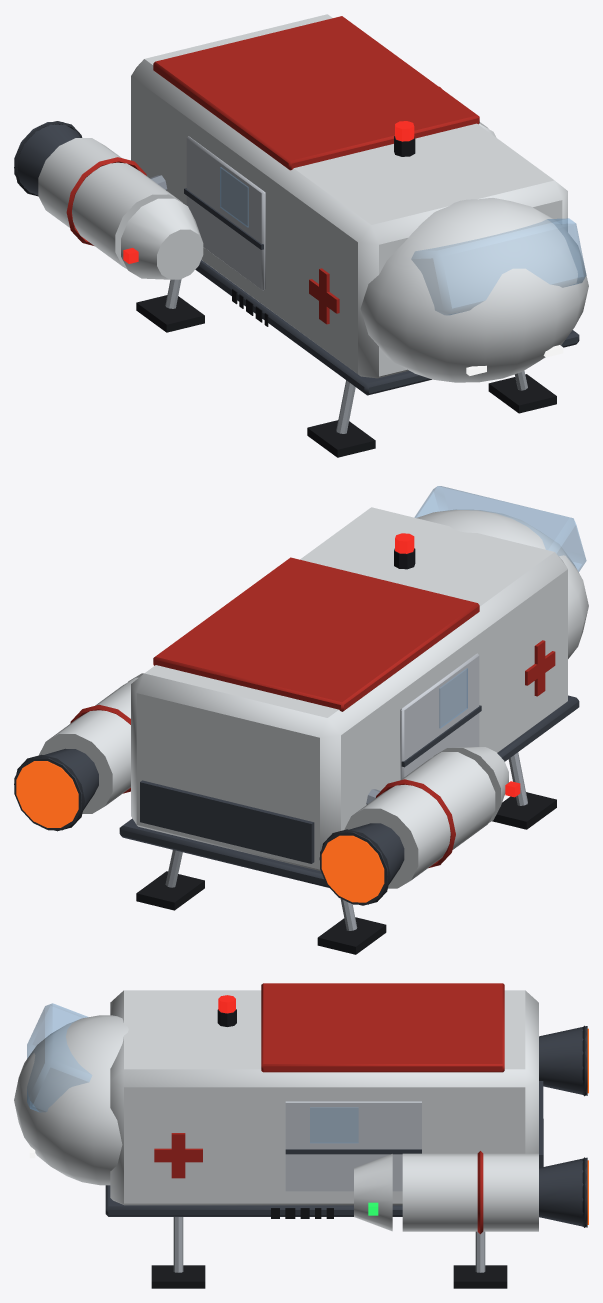
File: craft_medical_shuttle.glb
3 renders of one model, top to bottom at view 1: azimuth 30°, elevation 25°; view 2: azimuth 150°, elevation 25°; view 3: azimuth 270°, elevation 25°, orthographic. The views are drawn at different scales.
Visible parts, largest first — view 1: craft_medical_shuttle; view 2: craft_medical_shuttle; view 3: craft_medical_shuttle.
Boxes of the visible parts, left/top/right/bottom form: craft_medical_shuttle: left=14, top=14, right=588, bottom=457; craft_medical_shuttle: left=14, top=486, right=588, bottom=954; craft_medical_shuttle: left=14, top=983, right=588, bottom=1288.
Size of the model in its own units: 4.1 by 2.75 by 5.9.
